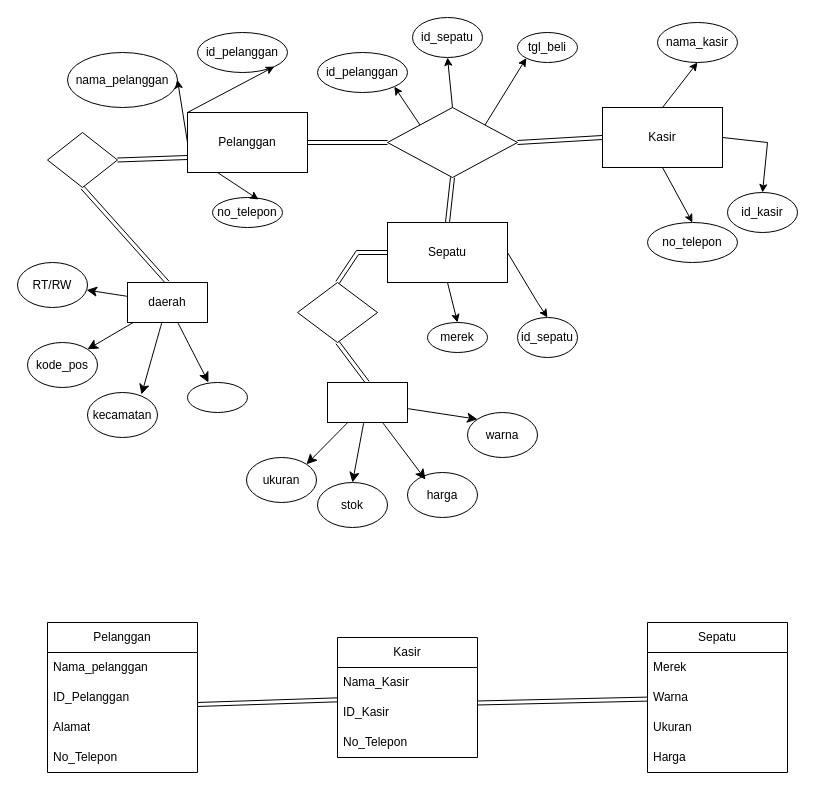
This 815x790 diagram has some shape labels left out. Each missing label, with the centre of its shape:
"desa" goes at [217,397].
"Membeli" goes at [452,142].
"memiliki" goes at [337,312].
"spesifikasi" goes at [367,402].
"tmpat tinggal" goes at [82,160].
